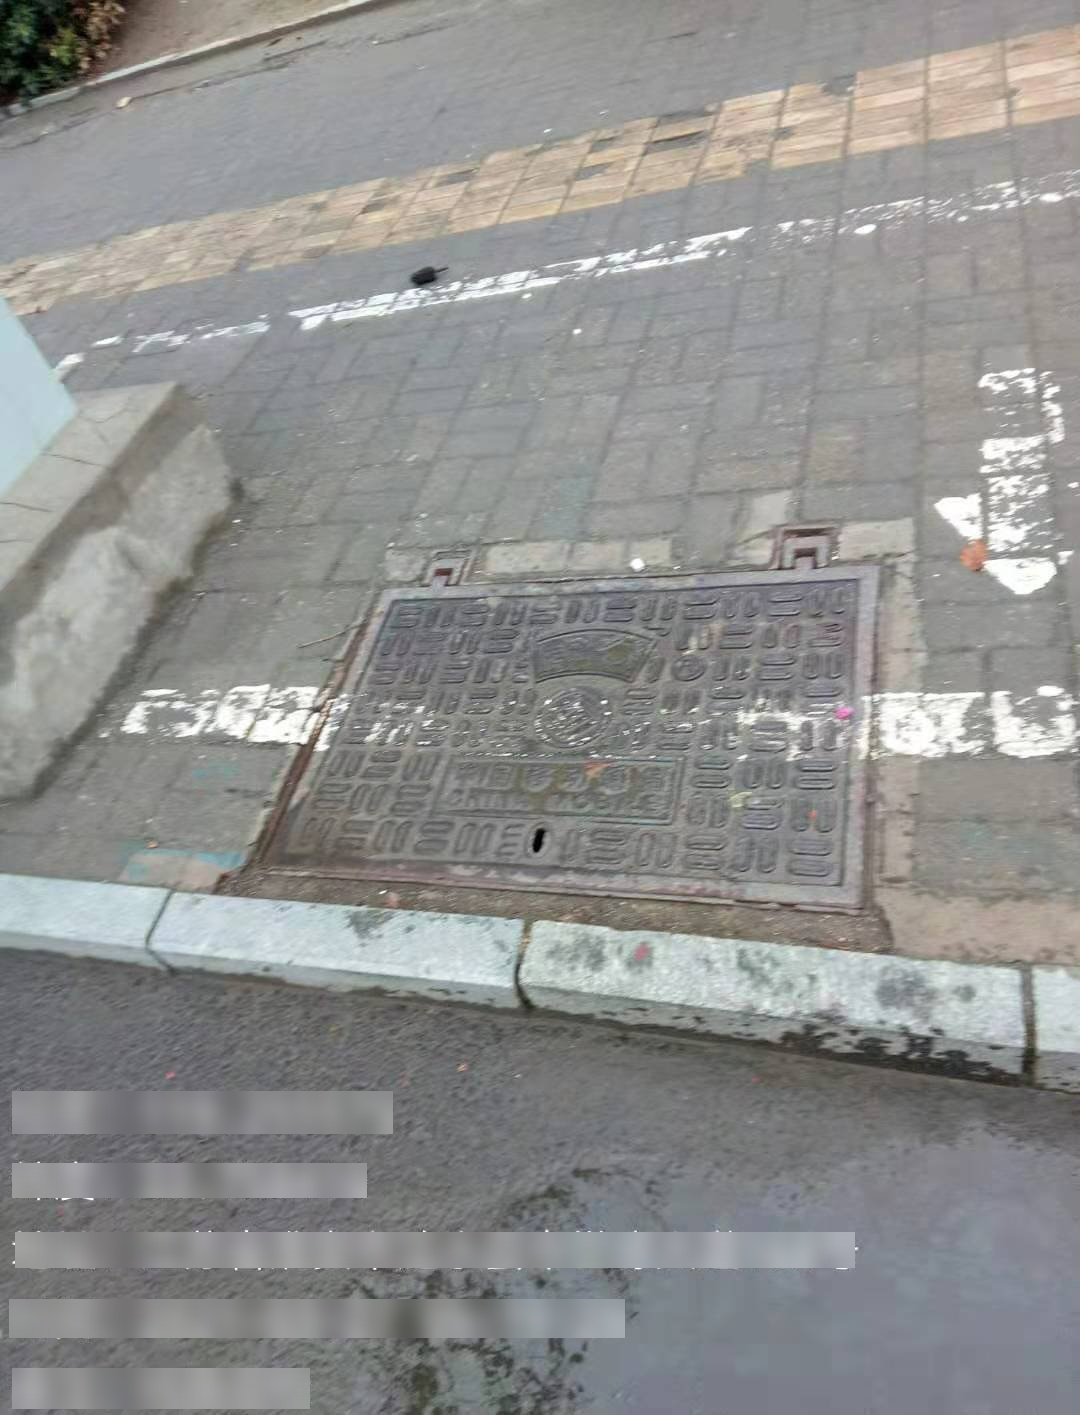good: (258, 527, 881, 923)
